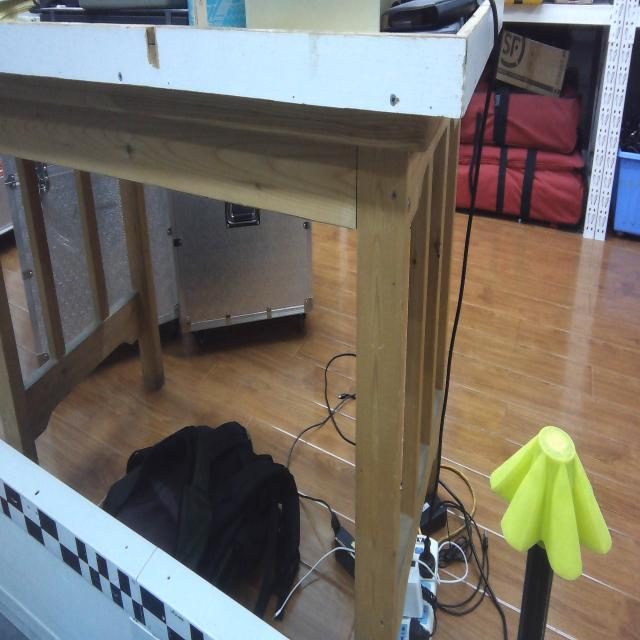Yellow-Stake-Head: (489, 425, 612, 581)
